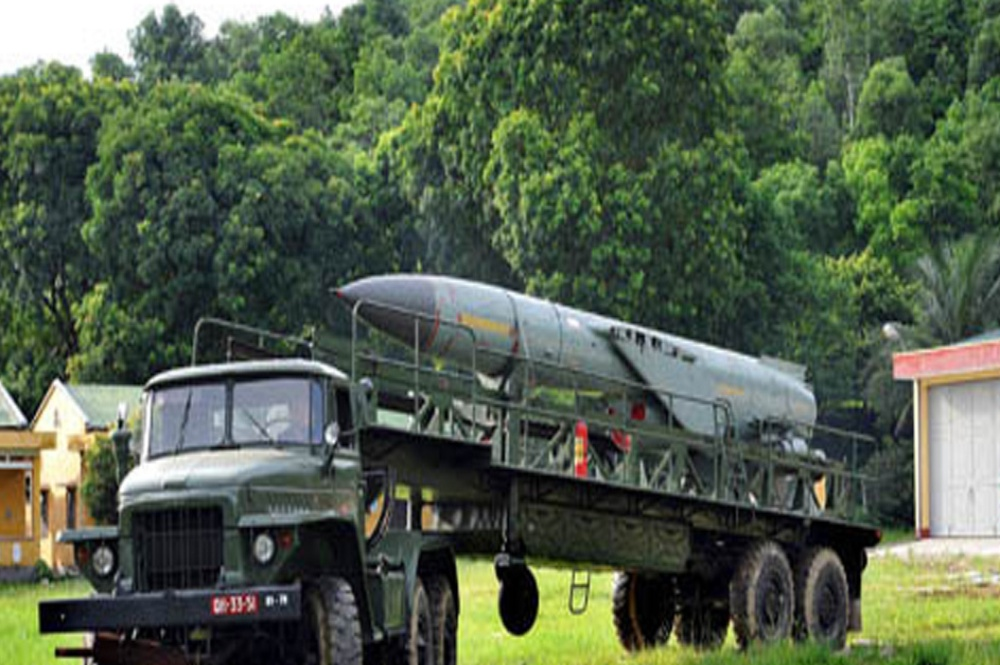plate: (205, 592, 259, 624)
